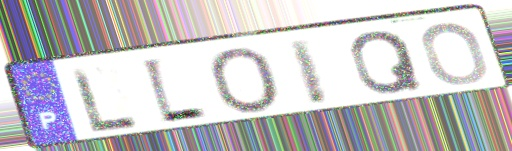I: (285, 36, 333, 109)
L: (137, 55, 211, 128), (67, 65, 142, 136)
O: (205, 45, 285, 116), (418, 20, 491, 87)
Q: (348, 29, 427, 97)
